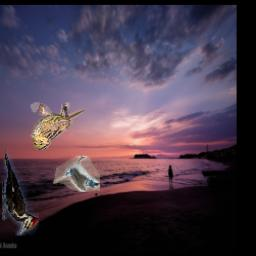Sparrow: (32, 103, 86, 151)
Swallow: (53, 157, 100, 193)
Woodpecker: (2, 148, 39, 237)
